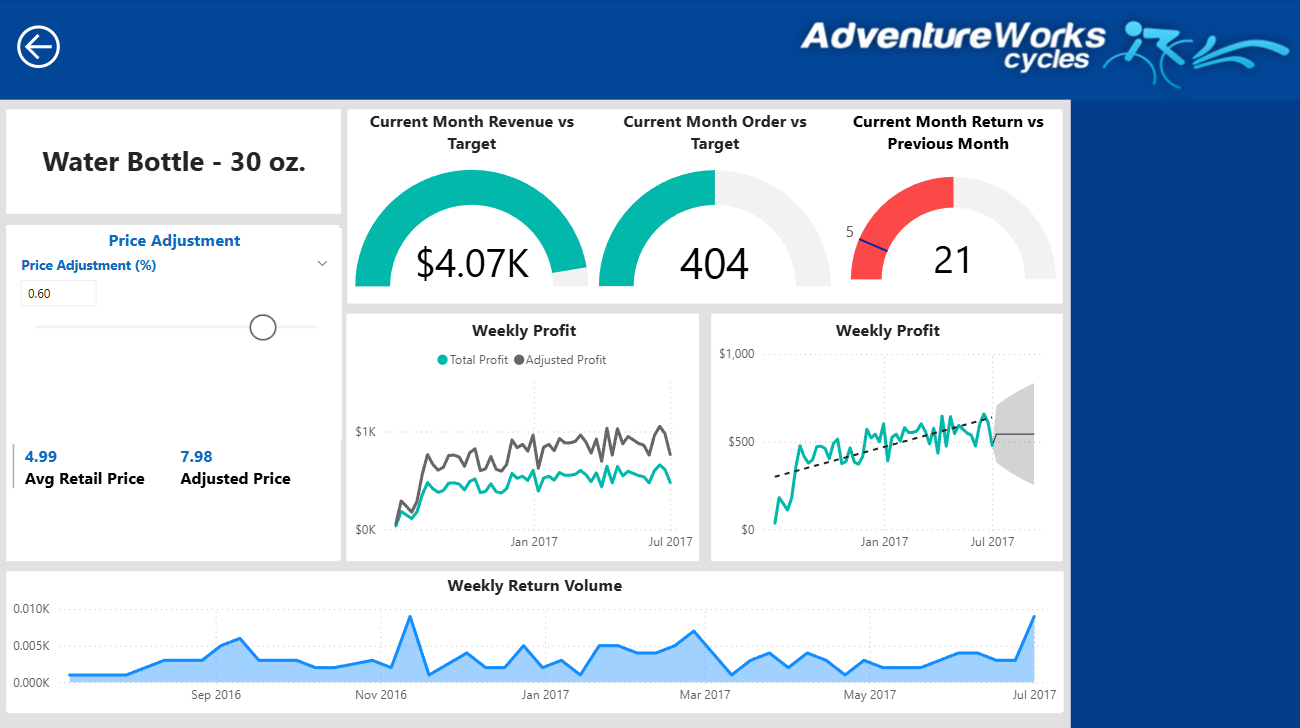

The page's visual inventory and layout, read from the dashboard file:
{"tool":"powerbi","page":{"name":"Product Details","canvas":[1280,720],"ordinal":3},"visuals":[{"type":"lineChart","title":"Weekly Profit","fields":{"Y":["Sales.Total Profit"],"Category":["AWCalendar.End of Week"]},"box":[701.9,313.6,341.3,237.6],"z":0},{"type":"lineChart","title":"Weekly Profit","fields":{"Y":["Sales.Total Profit","Sales.Adjusted Profit"],"Category":["AWCalendar.End of Week"]},"box":[344.9,313.6,341.3,237.6],"z":1000},{"type":"card","fields":{"Values":["Min(AWProducts.ProductName)"]},"box":[8.4,109.7,326.8,102.5],"z":2000},{"type":"gauge","title":"Current Month Order vs Target","fields":{"Y":["Sales.Total Order"]},"box":[583.7,109.7,237.6,190.6],"z":3000},{"type":"gauge","title":"Current Month Return vs Previous Month","fields":{"Y":["AWReturns.Total Return"]},"box":[821.3,109.7,221.9,190.6],"z":4000},{"type":"actionButton","box":[8.4,20.5,60,54],"z":5000},{"type":"areaChart","title":"Weekly Return Volume","fields":{"Category":["AWCalendar.End of Week"],"Y":["AWReturns.Total Return"]},"box":[8.4,564.4,1034.8,137.5],"z":6000},{"type":"gauge","title":"Current Month Revenue vs Target","fields":{"Y":["Sales.Total Revenue"],"MaxValue":["Sales.Revenue Target"]},"box":[344.9,109.7,238.8,190.6],"z":7000},{"type":"slicer","title":"Price Adjustment","fields":{"Values":["Parameter.Parameter"]},"box":[8.4,225.5,326.8,207.4],"z":8000},{"type":"multiRowCard","fields":{"Values":["AWProducts.Avg Retail Price","Sales.Adjusted Price"]},"box":[8.4,433,326.8,118.2],"z":9000}]}

Visuals, with their boxes in screenshot pixels (x1, y1, x2, y2), scaled from the page's 1280x720 canvas onto the 1300x728 screenshot:
"Weekly Profit" lineChart: 713 317 1060 557
"Weekly Profit" lineChart: 350 317 697 557
card - Min(AWProducts.ProductName): 9 111 340 215
"Current Month Order vs Target" gauge: 593 111 834 304
"Current Month Return vs Previous Month" gauge: 834 111 1060 304
actionButton: 9 21 69 75
"Weekly Return Volume" areaChart: 9 571 1060 710
"Current Month Revenue vs Target" gauge: 350 111 593 304
"Price Adjustment" slicer: 9 228 340 438
multiRowCard - AWProducts.Avg Retail Price x Sales.Adjusted Price: 9 438 340 557
